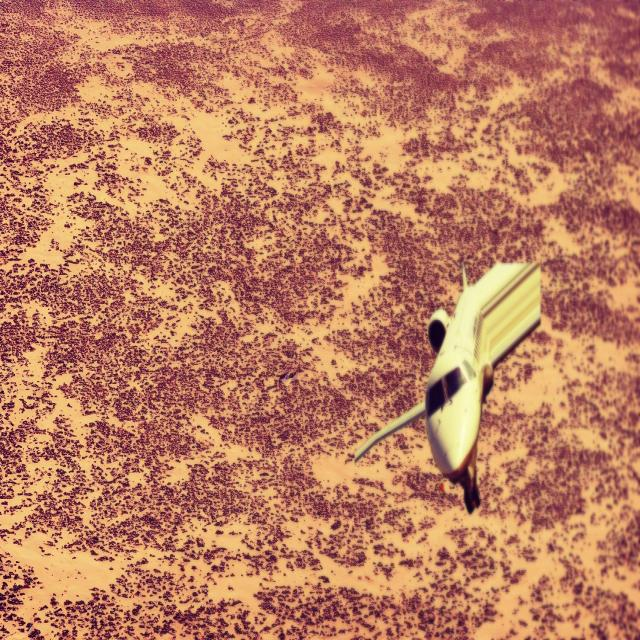airplane: (353, 258, 542, 514)
